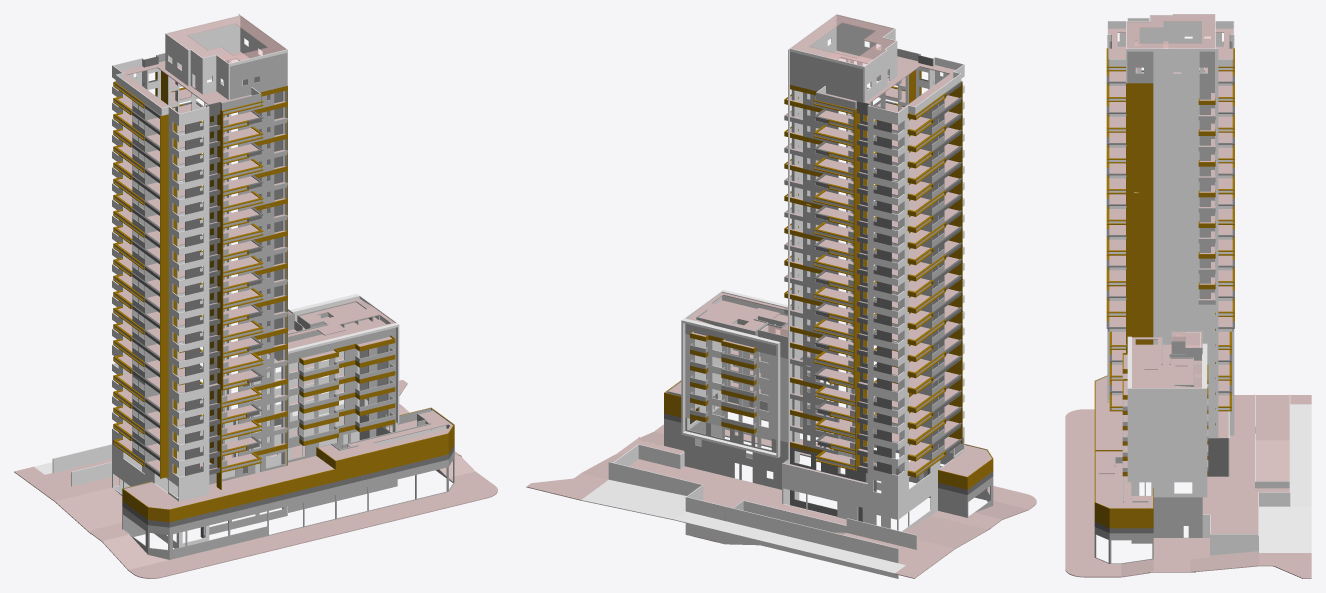
The model's file is ArchBoaVista3D4.glb.
The picture shows the model from 3 angles, left to right: view 1: azimuth 30°, elevation 25°; view 2: azimuth 150°, elevation 25°; view 3: azimuth 270°, elevation 25°; orthographic projection. The views are drawn at different scales.
Visible parts, largest first — view 1: 3DGeom-1, 3DGeom-2, 3DGeom-6, 3DGeom-3, 3DGeom-4, 3DGeom-7; view 2: 3DGeom-2, 3DGeom-1, 3DGeom-6, 3DGeom-3, 3DGeom-4, 3DGeom-7; view 3: 3DGeom-2, 3DGeom-6, 3DGeom-3, 3DGeom-1, 3DGeom-4, 3DGeom-7.
Part boxes in pixels (x1,y1,x2,y2): 3DGeom-1: [115, 53, 454, 559]; 3DGeom-2: [34, 14, 446, 548]; 3DGeom-6: [14, 51, 497, 578]; 3DGeom-3: [113, 71, 454, 522]; 3DGeom-4: [122, 56, 454, 538]; 3DGeom-7: [167, 15, 292, 314]; 3DGeom-2: [581, 14, 964, 578]; 3DGeom-1: [664, 41, 993, 517]; 3DGeom-6: [526, 50, 1036, 578]; 3DGeom-3: [664, 70, 993, 489]; 3DGeom-4: [664, 55, 993, 524]; 3DGeom-7: [761, 14, 895, 336]; 3DGeom-2: [1099, 14, 1311, 555]; 3DGeom-6: [1065, 28, 1311, 578]; 3DGeom-3: [1094, 48, 1234, 528]; 3DGeom-1: [1094, 41, 1233, 563]; 3DGeom-4: [1094, 34, 1234, 533]; 3DGeom-7: [1126, 14, 1214, 347].
Size of the model in its own units: 5.38 by 6.26 by 3.11.
